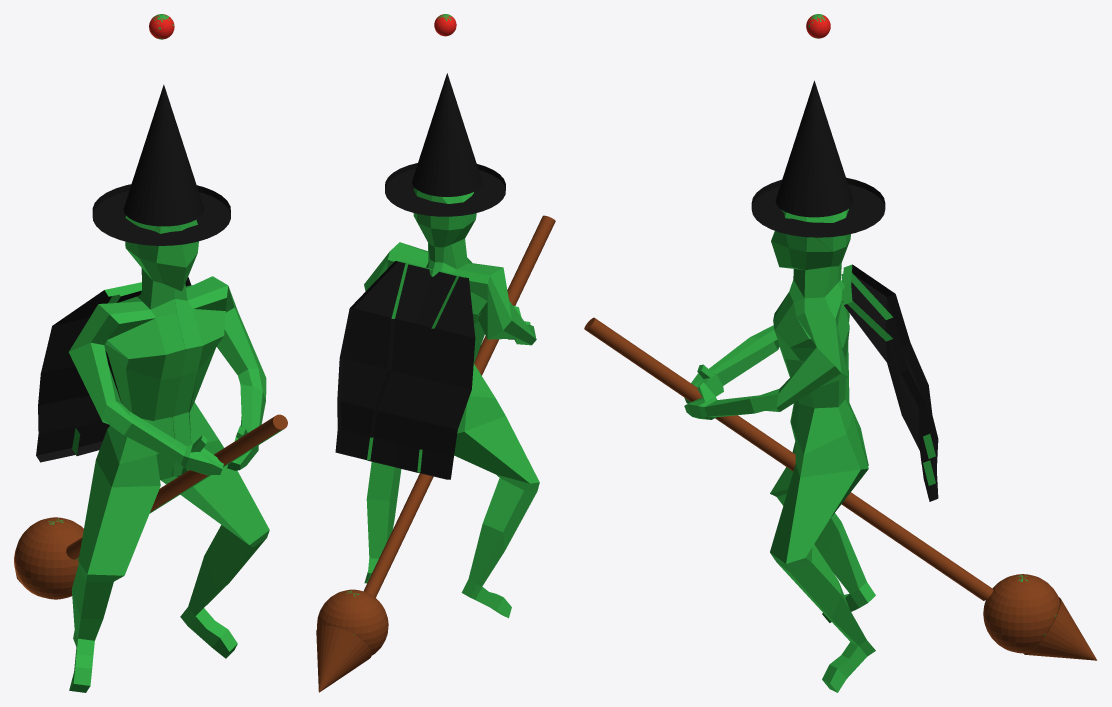
The model's file is zwevende-heks.fbx.
3 views of the same model, side by side, from view 1: azimuth 30°, elevation 25°; view 2: azimuth 150°, elevation 25°; view 3: azimuth 270°, elevation 25° (orthographic). The views are drawn at different scales.
Parts seen in each view (by area): view 1: Cube; view 2: Cube; view 3: Cube.
Boxes of the visible parts, x1,y1,x2,y2 form: Cube: (14, 14, 287, 692); Cube: (316, 14, 555, 692); Cube: (584, 14, 1097, 692).
Size of the model in its own units: 603 by 2114 by 1523.
